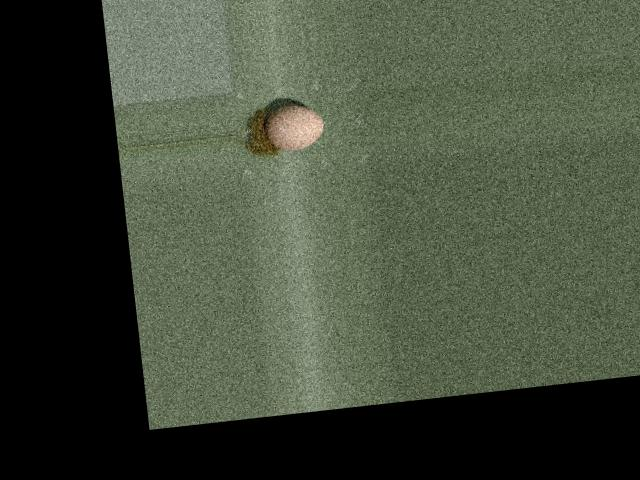egg: (264, 102, 326, 152)
